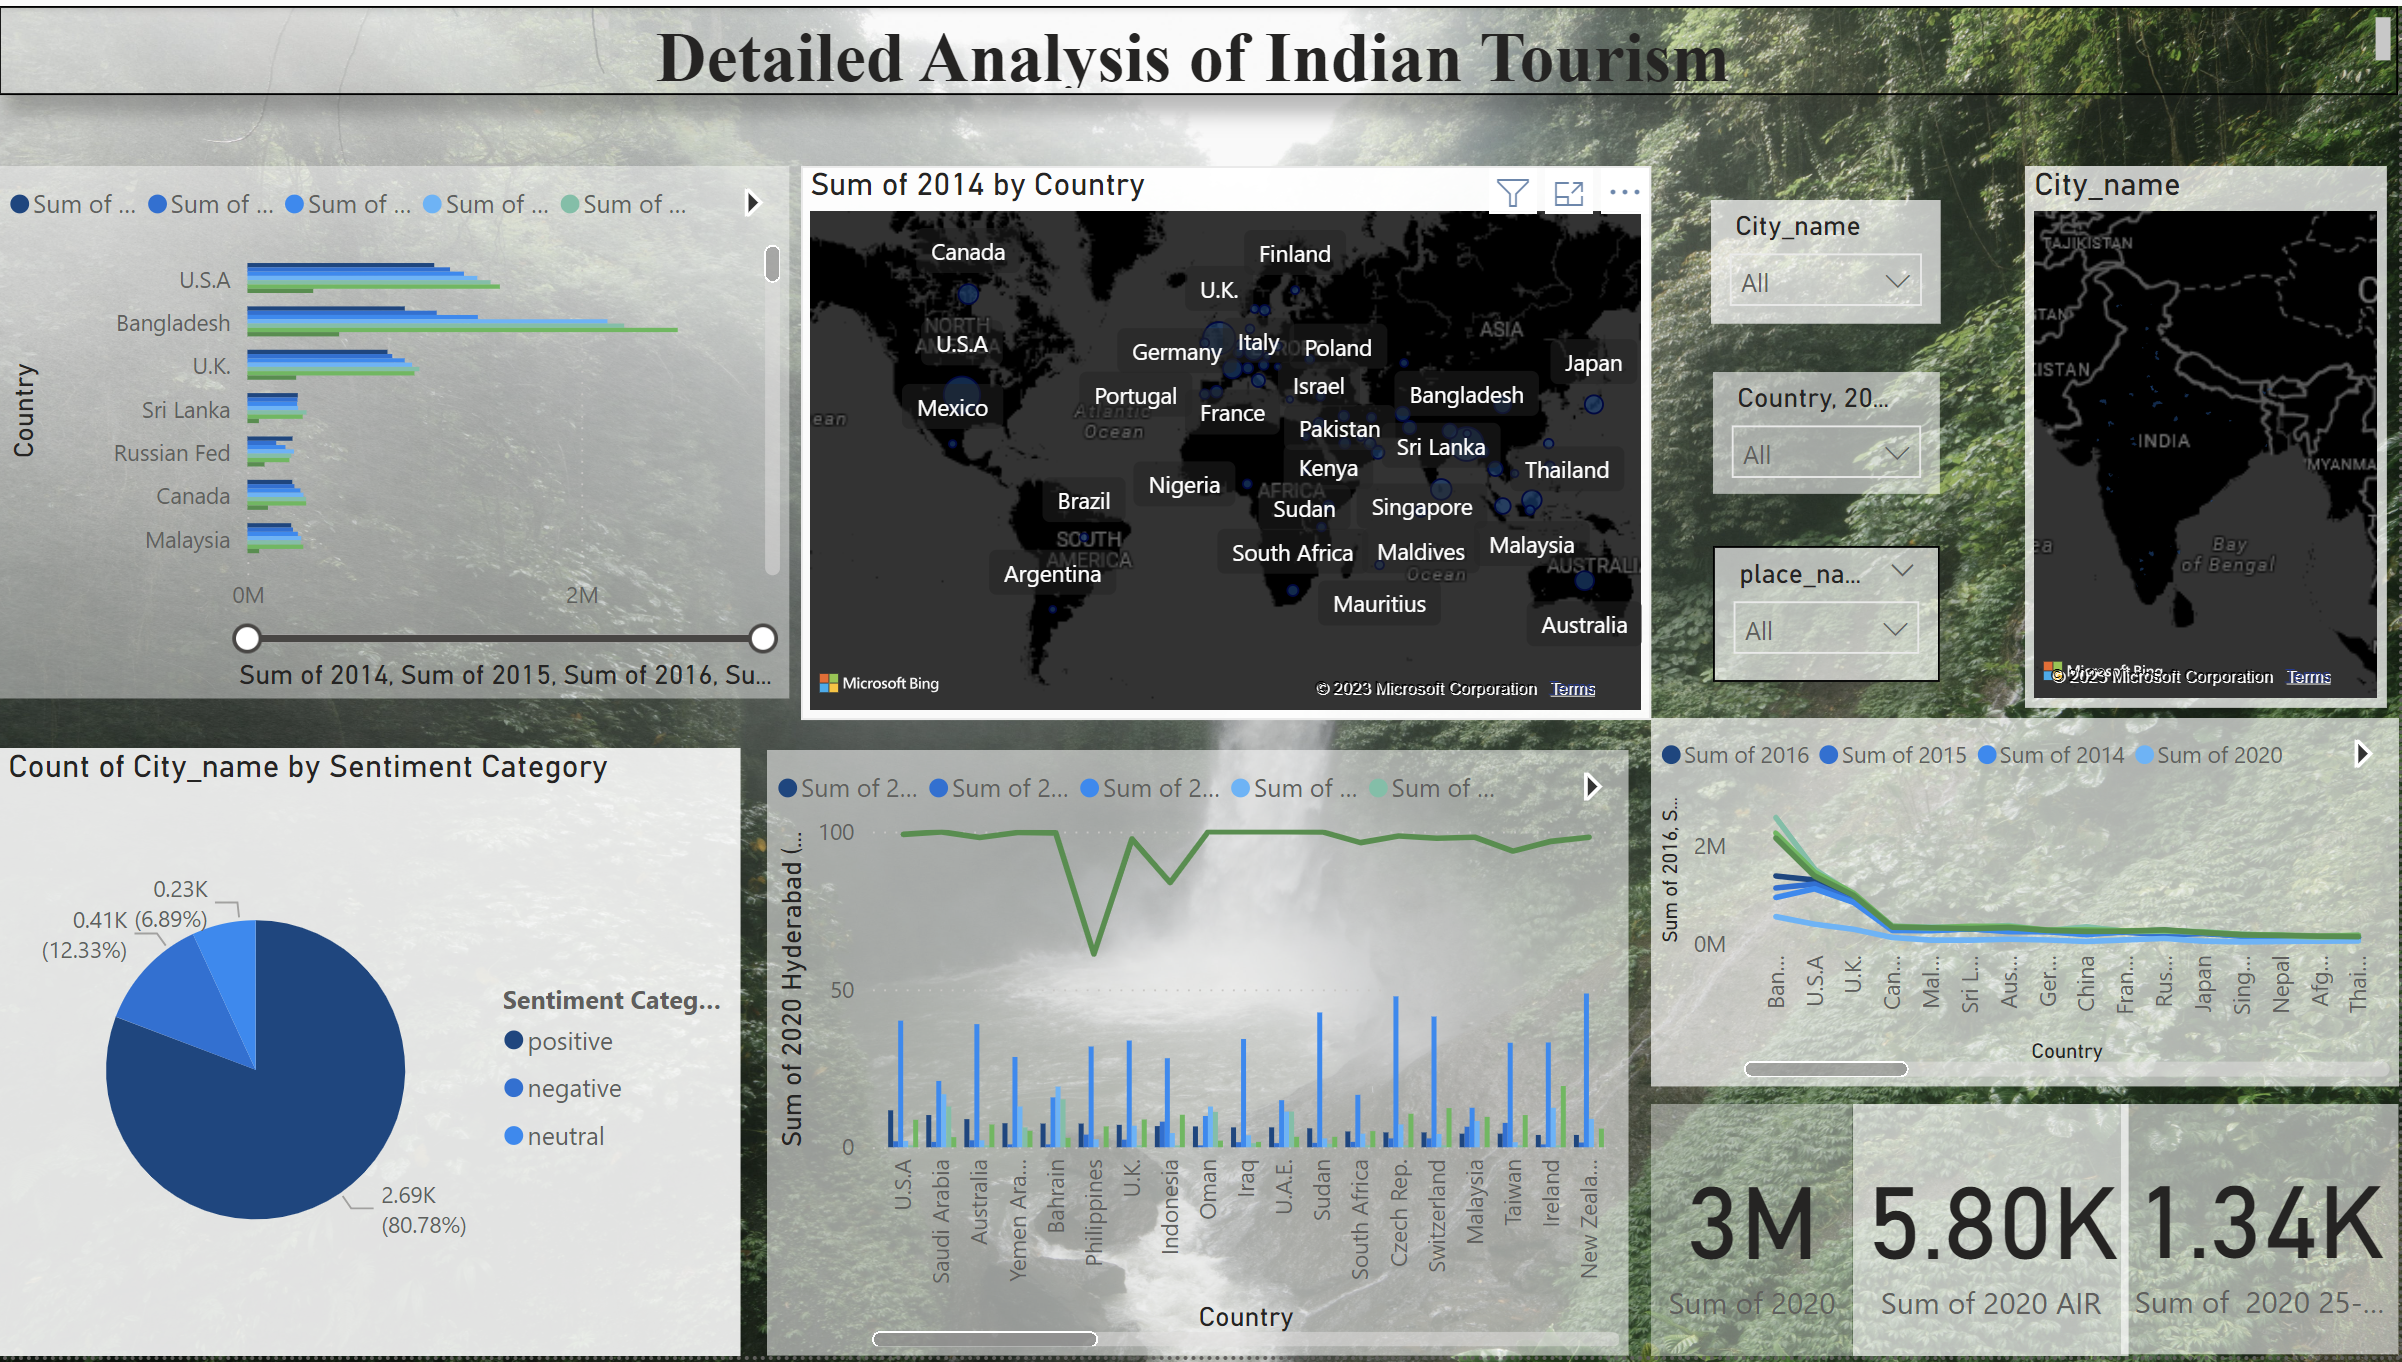

The page's visual inventory and layout, read from the dashboard file:
{"tool":"powerbi","page":{"name":"Indian Tourism Detailed Analysis ","canvas":[1280,720],"ordinal":0},"visuals":[{"type":"pieChart","fields":{"Category":["reviews1.Sentiment Category"],"Y":["CountNonNull(reviews1.City_name)"]},"box":[0,395.7,438.6,324.3],"z":0},{"type":"clusteredBarChart","fields":{"Y":["CountNonNull(reviews1.City_name)"],"Category":["reviews1.Sentiment Category"]},"box":[871.6,413.6,408,287.5],"z":1000},{"type":"filledMap","fields":{"Category":["reviews1.City_name"]},"box":[1076.1,71.6,193.2,288.6],"z":2000},{"type":"clusteredBarChart","fields":{"Category":["Table1.Country"],"Y":["Sum(Table1.2014)","Sum(Table1.2015)","Sum(Table1.2016)","Sum(Table1.2017)","Sum(Table1.2018)","Sum(Table1.2019)","Sum(Table1.2020)"]},"box":[0,85.2,421.6,284.1],"z":3000},{"type":"map","fields":{"Category":["Table1.Country"],"Size":["Sum(Table1.2014)"]},"box":[447.7,84.1,415.9,286.4],"z":4000},{"type":"slicer","fields":{"Values":["Table1.Country","Table1.2014","Table1.2015"]},"box":[896.6,195.5,121.6,64.8],"z":5000},{"type":"textbox","box":[0,0,1279.5,47.7],"z":6000},{"type":"slicer","fields":{"Values":["reviews1.City_name"]},"box":[895.5,102.3,122.7,65.9],"z":7000},{"type":"stackedAreaChart","fields":{"Y":["Sum(Table1.2014 AIR)","Sum(Table1.2015 AIR)","Sum(Table1.2016 AIR)","Sum(Table1.2017 AIR)","Sum(Table1.2018 AIR)","Sum(Table1.2019 AIR)","Sum(Table1.2020 AIR)","Sum(Table1.2014 LAND)","Sum(Table1.2015 LAND)","Sum(Table1.2016 LAND)","Sum(Table1.2017 LAND)","Sum(Table1.2018 LAND)"],"Category":["Table1.Country"]},"box":[455.7,413.6,408,287.5],"z":8000},{"type":"slicer","fields":{"Values":["reviews1.place_name","reviews1.Sentiment Category"]},"box":[896.6,279.5,121.6,71.6],"z":8001}]}

Visuals, with their boxes in screenshot pixels (x1, y1, x2, y2), scaled from the page's 1280x720 canvas onto the 2402x1362 screenshot:
pieChart - reviews1.Sentiment Category x CountNonNull(reviews1.City_name): 0/749/823/1361
clusteredBarChart - CountNonNull(reviews1.City_name) x reviews1.Sentiment Category: 1636/782/2401/1326
filledMap - reviews1.City_name: 2019/135/2382/681
clusteredBarChart - Table1.Country x Sum(Table1.2014): 0/161/791/699
map - Table1.Country x Sum(Table1.2014): 840/159/1621/701
slicer - Table1.Country x Table1.2014: 1683/370/1911/492
textbox: 0/0/2401/90
slicer - reviews1.City_name: 1680/194/1911/318
stackedAreaChart - Sum(Table1.2014 AIR) x Sum(Table1.2015 AIR): 855/782/1621/1326
slicer - reviews1.place_name x reviews1.Sentiment Category: 1683/529/1911/664
